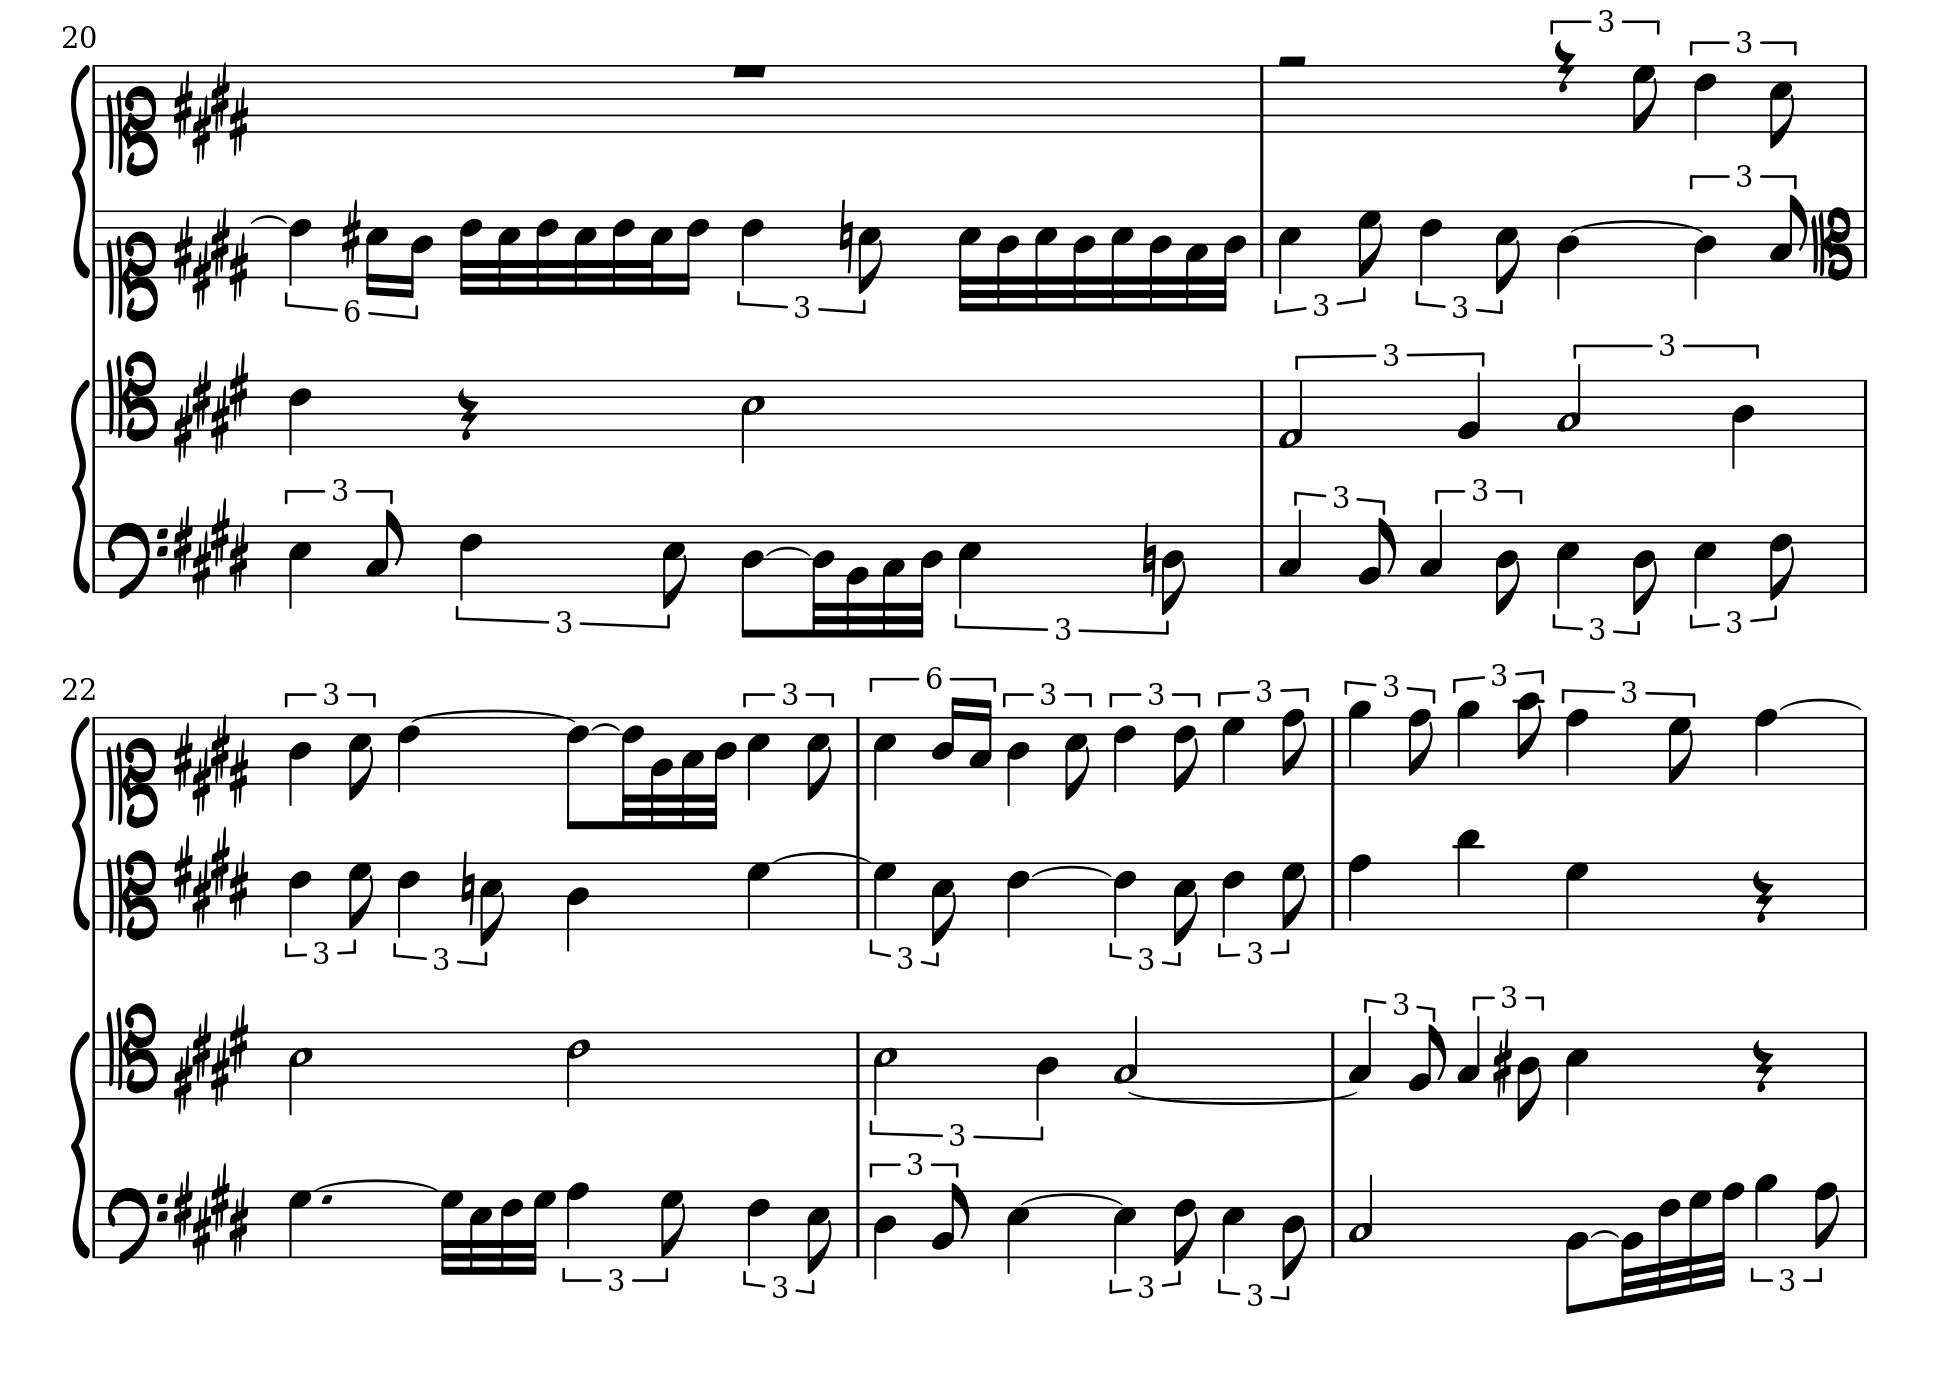0: (79, 22, 96, 49)
16_3: (967, 696, 993, 783)
16_4: (400, 208, 433, 298), (931, 694, 961, 784)
16_5: (364, 208, 388, 295)
16_6: (675, 208, 709, 297)
2: (60, 22, 78, 49), (60, 675, 78, 700), (78, 675, 96, 700)
2_1: (1278, 378, 1305, 450)
2_3: (1557, 361, 1584, 447), (1113, 1012, 1140, 1098), (1347, 1173, 1374, 1258)
2_5: (286, 1030, 313, 1114), (739, 376, 765, 463), (871, 1030, 897, 1111)
2_6: (565, 1030, 589, 1108)
3: (892, 943, 916, 975), (1134, 1272, 1158, 1300), (945, 1120, 967, 1150), (604, 1264, 627, 1294), (1779, 1266, 1800, 1297), (769, 1272, 790, 1302), (553, 607, 574, 634), (1587, 613, 1608, 640), (1053, 615, 1074, 640), (1450, 292, 1470, 319), (1725, 607, 1744, 634), (1489, 661, 1509, 688), (1245, 937, 1264, 964), (310, 939, 330, 966), (1245, 1279, 1264, 1306), (322, 679, 340, 708), (430, 946, 451, 970), (331, 475, 349, 502), (1381, 672, 1399, 699), (1597, 7, 1615, 33), (1312, 291, 1330, 316), (1659, 330, 1677, 355), (1332, 483, 1350, 508), (1620, 678, 1638, 703), (1137, 946, 1155, 972), (1392, 990, 1410, 1015), (1735, 160, 1752, 187), (1473, 475, 1489, 502), (781, 679, 798, 706), (1039, 679, 1056, 706), (1501, 982, 1518, 1009), (1735, 27, 1752, 52), (1383, 340, 1399, 366), (1257, 678, 1273, 703), (1149, 679, 1164, 706)
32_2: (1618, 1188, 1645, 1305), (844, 523, 870, 639), (649, 712, 673, 829)
32_3: (679, 712, 703, 829), (880, 523, 904, 637), (1183, 208, 1209, 313)
32_4: (910, 523, 943, 639), (706, 714, 736, 831), (1215, 208, 1248, 313), (810, 523, 835, 637), (1071, 208, 1098, 313), (994, 208, 1020, 313), (1147, 208, 1173, 313)
32_5: (640, 208, 673, 295), (955, 208, 982, 313), (1032, 208, 1059, 313), (1110, 208, 1135, 313), (495, 208, 522, 295), (571, 208, 598, 295), (468, 1188, 493, 1276)
32_6: (619, 715, 646, 829), (1656, 1188, 1681, 1297), (457, 207, 484, 298), (534, 207, 559, 297), (610, 208, 634, 297), (499, 1188, 523, 1276)
32_7: (1689, 1186, 1713, 1294), (528, 1188, 556, 1273), (439, 1186, 463, 1276)
32_8: (1714, 1180, 1744, 1288)
4_2: (1456, 370, 1482, 448)
4_3: (1347, 1015, 1374, 1099), (1455, 1015, 1482, 1099), (1417, 510, 1444, 592), (1278, 508, 1303, 592)
4_4: (1555, 208, 1581, 300), (1731, 378, 1756, 469), (565, 859, 589, 952), (1693, 208, 1717, 300), (288, 715, 312, 805), (1035, 1030, 1059, 1120), (873, 1189, 897, 1279), (1006, 717, 1030, 805)
4_5: (1563, 1030, 1590, 1117), (286, 523, 312, 610), (871, 715, 897, 802), (1005, 1188, 1030, 1275), (957, 523, 982, 609), (1555, 523, 1581, 609), (1692, 523, 1717, 609), (1278, 208, 1302, 295), (1113, 1188, 1137, 1275), (1221, 1188, 1245, 1275), (745, 715, 769, 801)
4_6: (1692, 63, 1717, 141), (457, 522, 481, 601), (286, 208, 310, 286), (739, 208, 763, 286), (396, 714, 420, 792), (286, 859, 310, 937), (396, 859, 420, 937), (1113, 859, 1137, 937), (1419, 208, 1443, 285), (1113, 715, 1137, 792), (1221, 859, 1245, 936), (288, 376, 310, 454), (1006, 859, 1029, 937), (747, 1188, 769, 1264)
4_7: (871, 859, 898, 928), (745, 859, 771, 930), (1564, 859, 1590, 930), (286, 1188, 312, 1258), (1221, 715, 1246, 784)
4_8: (1564, 706, 1590, 786), (1753, 706, 1779, 786), (1347, 850, 1371, 931), (565, 1180, 589, 1258)
4_9: (1455, 697, 1479, 786), (1347, 697, 1371, 784), (1753, 1171, 1777, 1258)
6: (925, 663, 943, 688)
8_10: (1515, 691, 1545, 786)
8_11: (1455, 825, 1482, 931)
8_2: (1564, 1186, 1590, 1315), (1357, 516, 1396, 592), (930, 1182, 969, 1258), (1407, 1023, 1446, 1098)
8_3: (364, 507, 403, 592), (1770, 192, 1807, 279)
8_4: (739, 522, 763, 639), (1630, 523, 1659, 616), (1494, 523, 1521, 616), (1281, 1189, 1308, 1281), (1161, 523, 1186, 616), (1516, 1030, 1542, 1123)
8_5: (660, 523, 688, 610), (1494, 208, 1521, 295), (346, 715, 373, 802), (805, 715, 832, 802), (1063, 715, 1090, 802), (928, 859, 955, 946), (856, 208, 883, 294), (478, 861, 505, 946), (1171, 861, 1198, 946), (805, 1189, 832, 1275), (1768, 63, 1794, 148)
8_6: (564, 712, 589, 829), (1173, 715, 1200, 795), (1173, 1188, 1200, 1267), (1768, 523, 1795, 601)
8_7: (1281, 859, 1308, 931), (1632, 63, 1659, 133), (1357, 208, 1384, 279), (1668, 715, 1695, 786), (346, 859, 373, 930), (660, 1189, 687, 1258)
8_8: (1813, 1180, 1842, 1258), (1281, 706, 1308, 786), (1407, 706, 1434, 786)
Brace: (69, 1027, 91, 1260), (70, 709, 91, 934), (70, 375, 91, 595), (70, 61, 90, 280)
Cclef: (103, 847, 156, 940), (1809, 205, 1854, 282)
E_S: (171, 1006, 253, 1110), (171, 355, 252, 457), (171, 496, 252, 598), (171, 712, 252, 814), (171, 826, 250, 927), (172, 1162, 252, 1263), (172, 63, 250, 163), (172, 208, 250, 307)
Fclef: (106, 519, 169, 601), (105, 1185, 168, 1267)
Natural: (1141, 517, 1158, 597), (459, 847, 475, 927), (838, 196, 853, 274)
Rests1: (727, 61, 771, 81)
Rests2: (1275, 51, 1311, 73)
Rests4: (1552, 37, 1578, 94), (1752, 867, 1776, 925), (1752, 1036, 1776, 1093), (456, 385, 478, 442)
Sharp: (340, 199, 361, 268), (1491, 1030, 1512, 1098)
Single_barline: (1252, 210, 1272, 276), (1855, 862, 1875, 928), (849, 864, 868, 928), (1857, 715, 1875, 783), (1254, 379, 1272, 445), (1254, 525, 1272, 589), (1857, 523, 1873, 592), (1326, 859, 1342, 928), (1857, 64, 1873, 132), (1858, 210, 1875, 277), (1324, 715, 1341, 783), (850, 1030, 867, 1098), (1254, 64, 1270, 130), (1857, 379, 1873, 445), (1857, 1032, 1873, 1096), (1857, 1191, 1873, 1255), (850, 717, 865, 784), (1326, 1189, 1341, 1255), (1326, 1030, 1341, 1095), (850, 1189, 865, 1254), (88, 208, 102, 277), (88, 378, 100, 448), (88, 1030, 100, 1099), (88, 64, 100, 132), (88, 717, 100, 784), (88, 862, 100, 928), (88, 1189, 100, 1255), (88, 526, 100, 589)
Slur: (1020, 1191, 1125, 1206), (316, 1177, 439, 1189), (769, 850, 871, 862), (1779, 697, 1861, 711), (1032, 864, 1113, 877), (765, 544, 810, 558), (249, 213, 289, 225), (1590, 1228, 1620, 1239), (589, 723, 621, 732)
Soprano_Cclef: (105, 61, 157, 174), (105, 207, 157, 319), (105, 714, 154, 826)
Tensor_Cclef: (106, 349, 159, 448), (106, 1002, 156, 1099)
dot: (319, 1192, 333, 1204)
